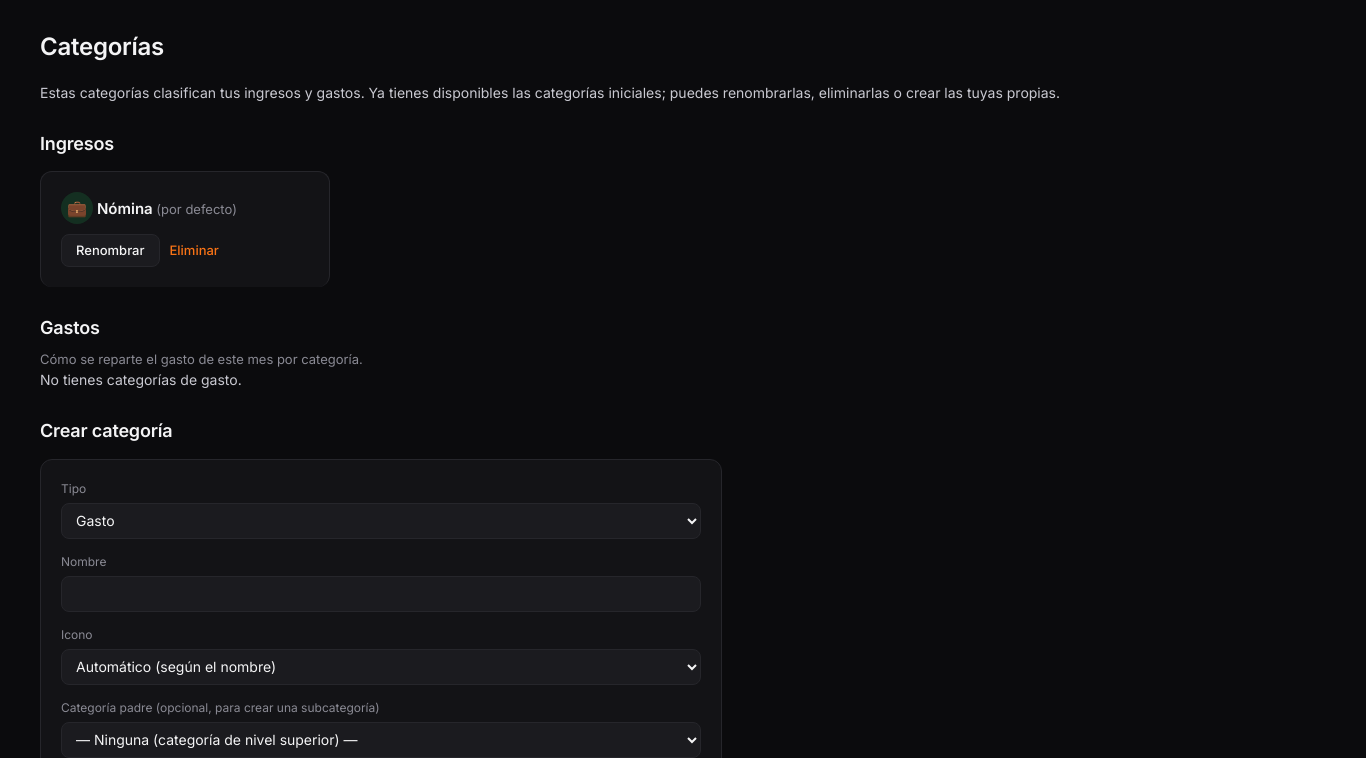
Test: CategoriesPage › renombra una categoría existente sin tocar su icono
expect the text "Nómina" is shown: met, box [97,198,153,218]
Click the button "Renombrar". click: (110, 250)
box: [61,234,160,267]
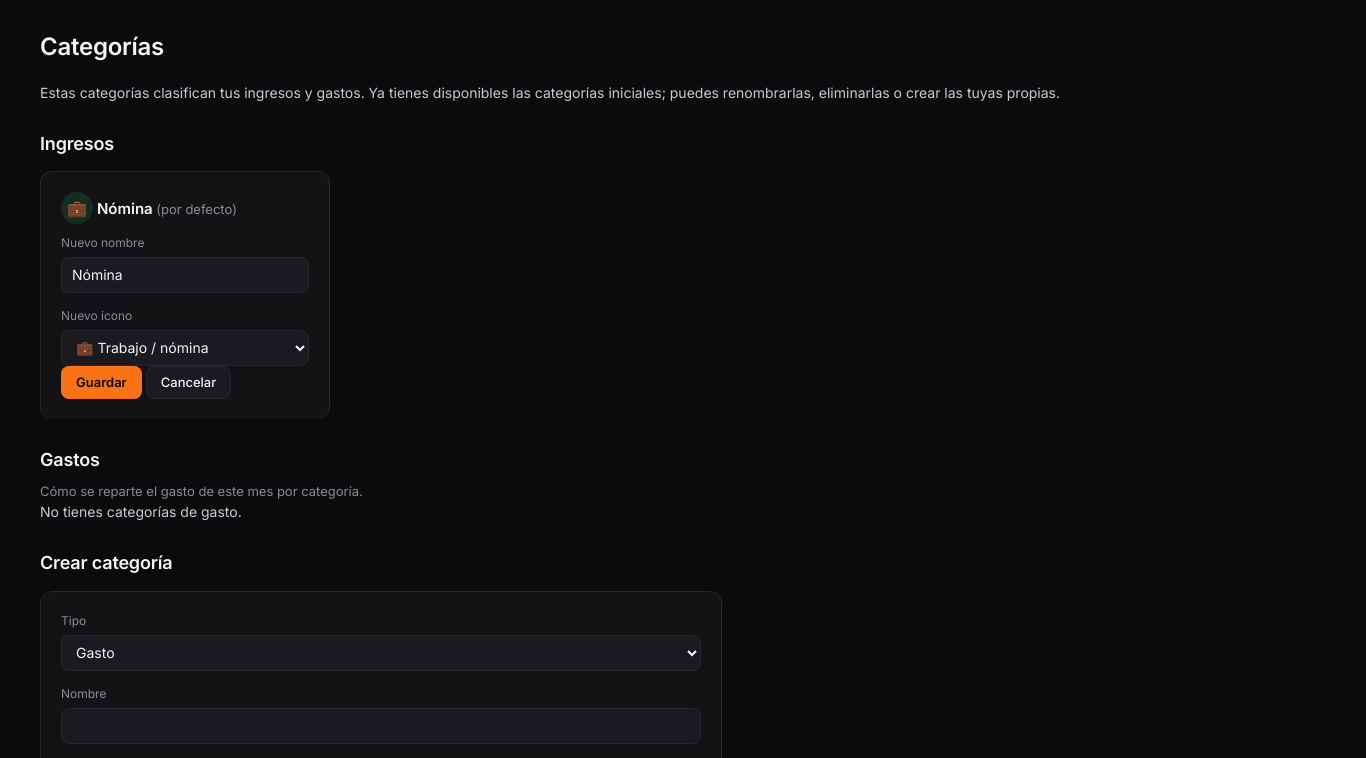
Replace the text in the field labelled "Nuevo nombre" with "Salario". click: (185, 274)
box: [61,256,309,292]
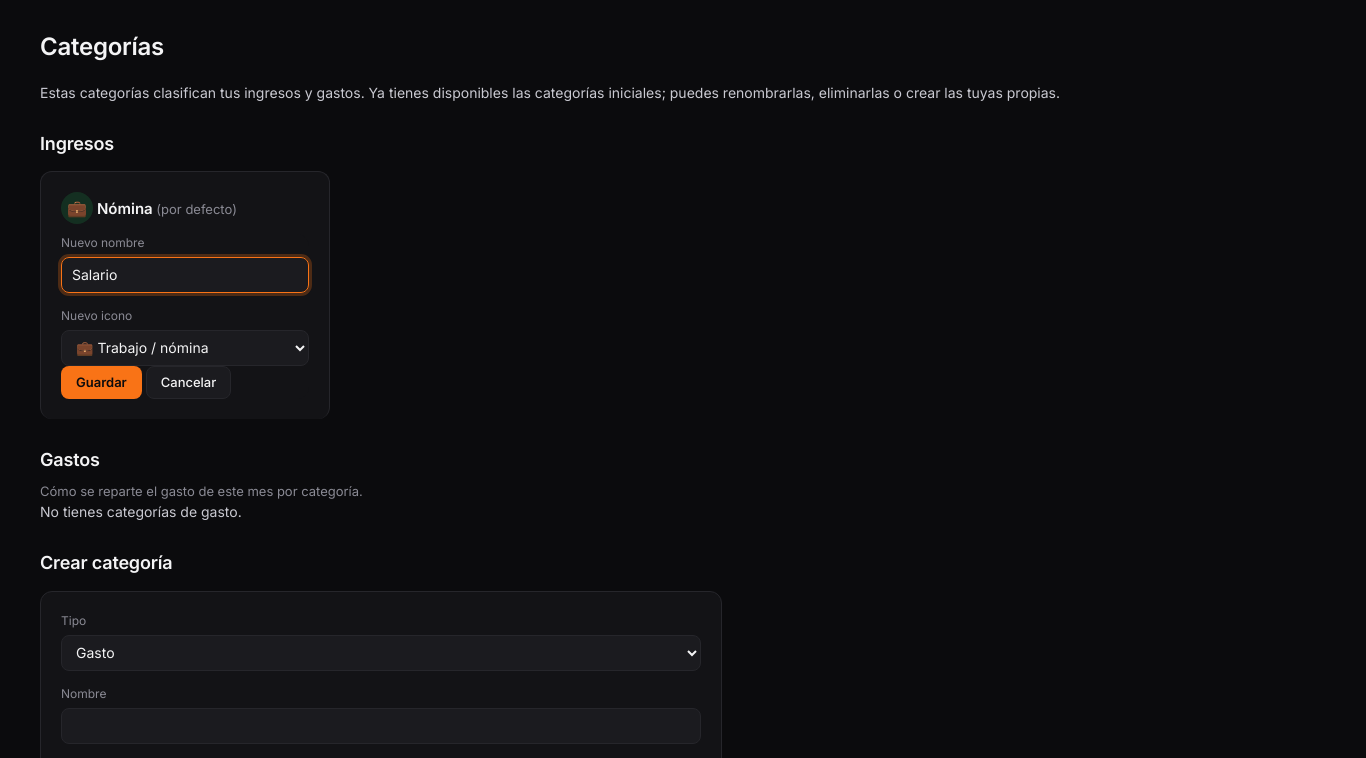
Click the button "Guardar". click: (101, 382)
box: [61,366,142,399]
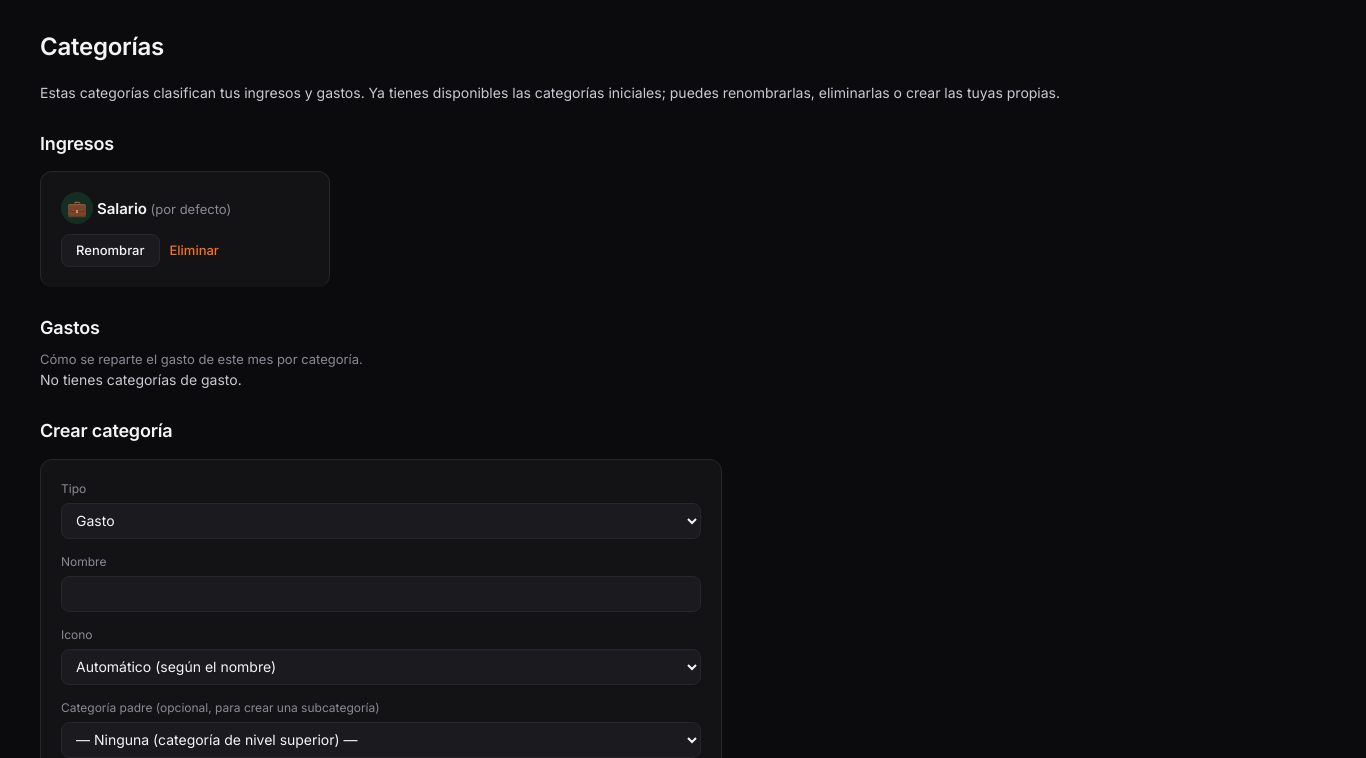
expect the text "Salario" is shown: met, box [97,198,147,218]
